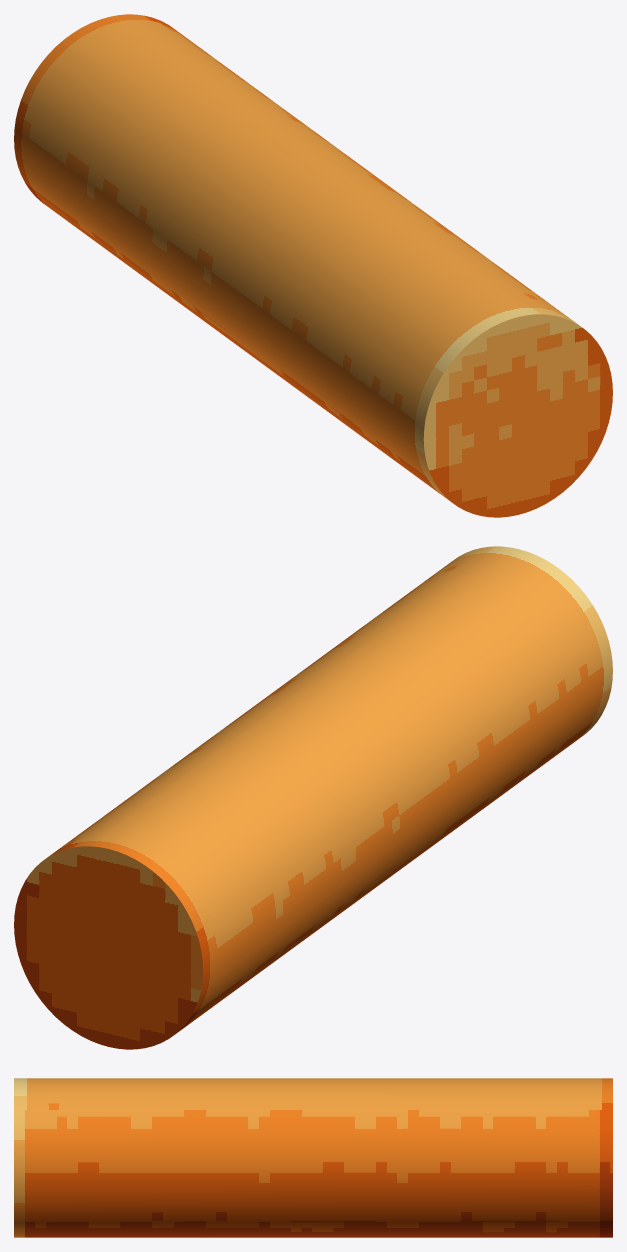
File: cig_butt.glb
3 renders of one model, top to bottom at view 1: azimuth 30°, elevation 25°; view 2: azimuth 150°, elevation 25°; view 3: azimuth 270°, elevation 25°, orthographic. The views are drawn at different scales.
Parts seen in each view (by area): view 1: mesh; view 2: mesh; view 3: mesh.
Boxes of the visible parts, <box> form: mesh: <box>14,14,612,517</box>; mesh: <box>14,546,612,1049</box>; mesh: <box>14,1078,612,1237</box>.
Size of the model in its own units: 0.01 by 0.01 by 0.0375.
1 material, 1 textured.
